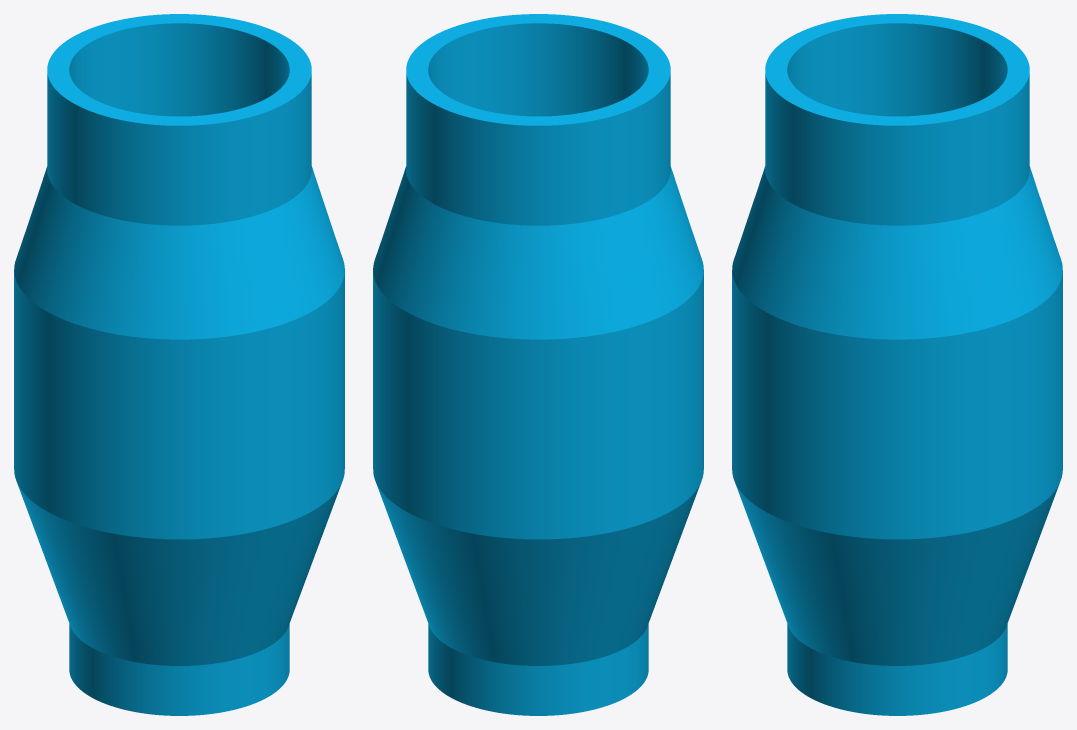
Rendered from revolve-vase.gltf.
3 views of the same model, side by side, from view 1: azimuth 30°, elevation 25°; view 2: azimuth 150°, elevation 25°; view 3: azimuth 270°, elevation 25° (orthographic).
Visible parts, largest first — view 1: Gövde; view 2: Gövde; view 3: Gövde.
Boxes of the visible parts, x1,y1,x2,y2 form: Gövde: [14, 14, 344, 715]; Gövde: [373, 14, 703, 715]; Gövde: [732, 14, 1062, 715].
Size of the model in its own units: 0.03 by 0.06 by 0.03.
